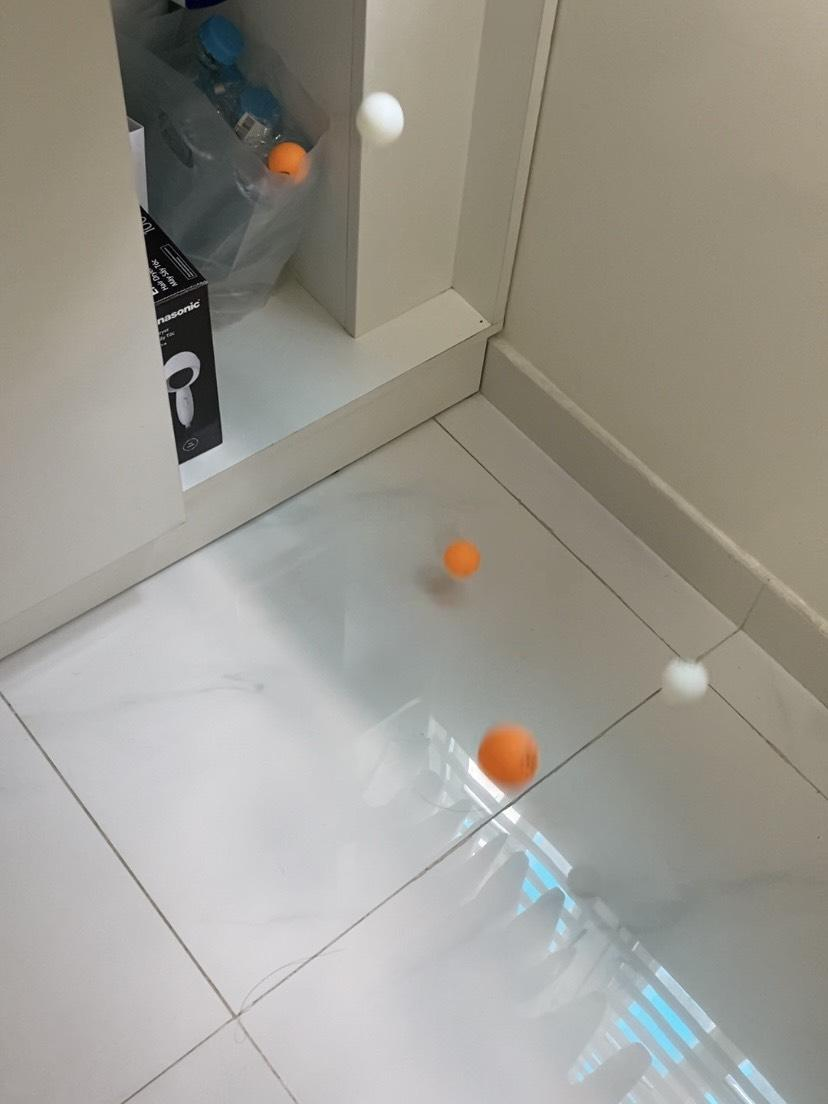oball: (477, 723, 540, 785), (268, 140, 310, 185), (445, 543, 478, 577)
